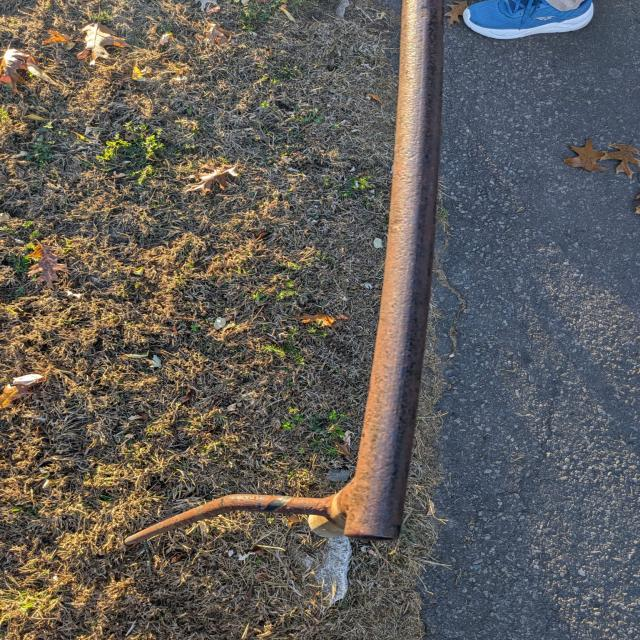Uniform Corrosion: (126, 1, 444, 546), (331, 1, 444, 540)
